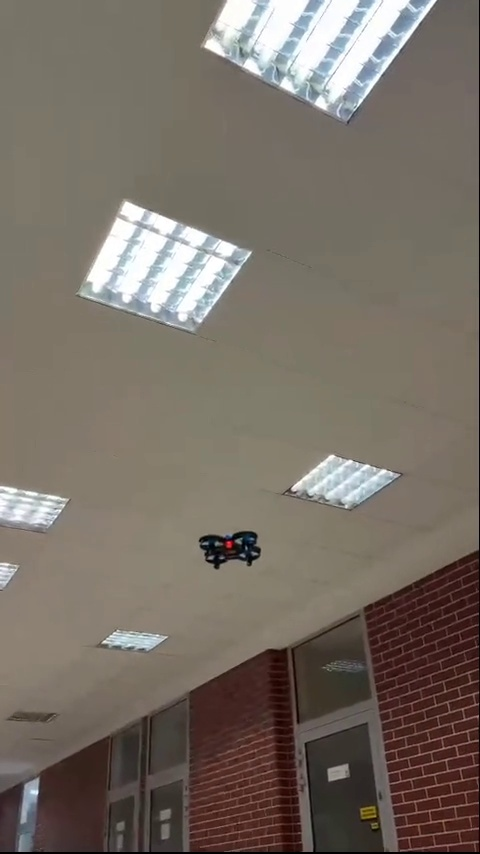drone: (200, 527, 265, 571)
